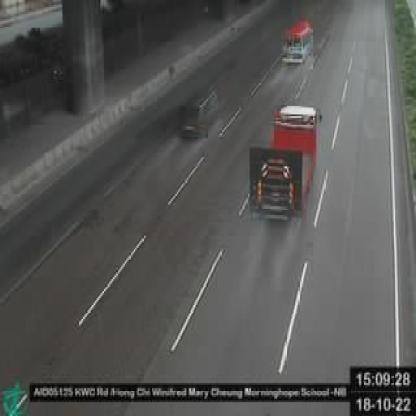Minibus: (283, 19, 314, 66)
Truck: (247, 106, 322, 223)
